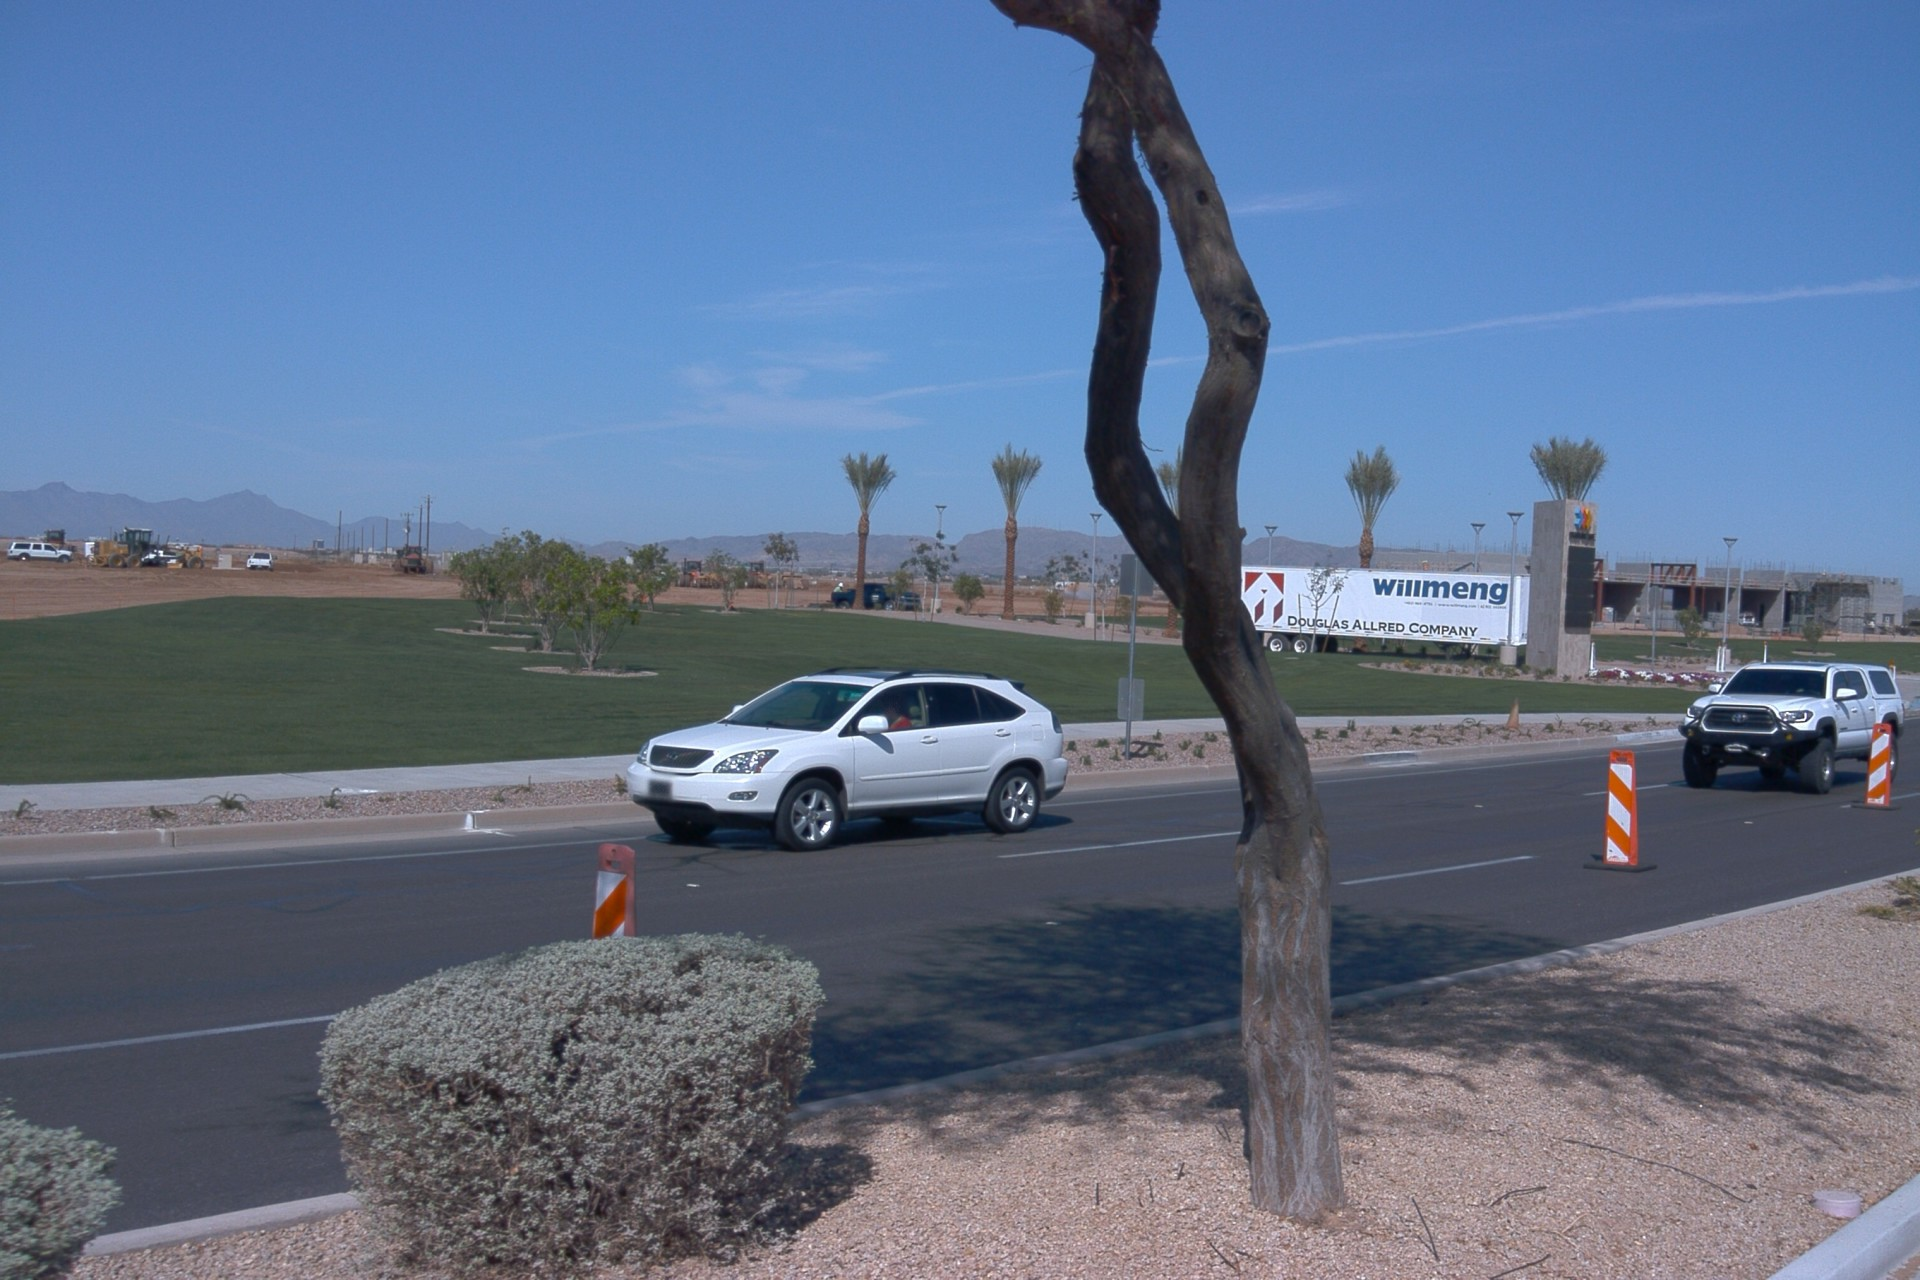TYPE_PEDESTRIAN: (833, 582, 846, 594)
TYPE_VEHICLE: (621, 662, 1073, 852), (1682, 661, 1908, 796), (1243, 559, 1534, 654), (68, 522, 203, 571), (828, 580, 921, 612), (393, 542, 437, 577), (12, 538, 78, 560), (1041, 578, 1082, 599), (244, 553, 278, 573), (1452, 561, 1484, 575), (388, 552, 404, 575), (85, 538, 97, 557)
